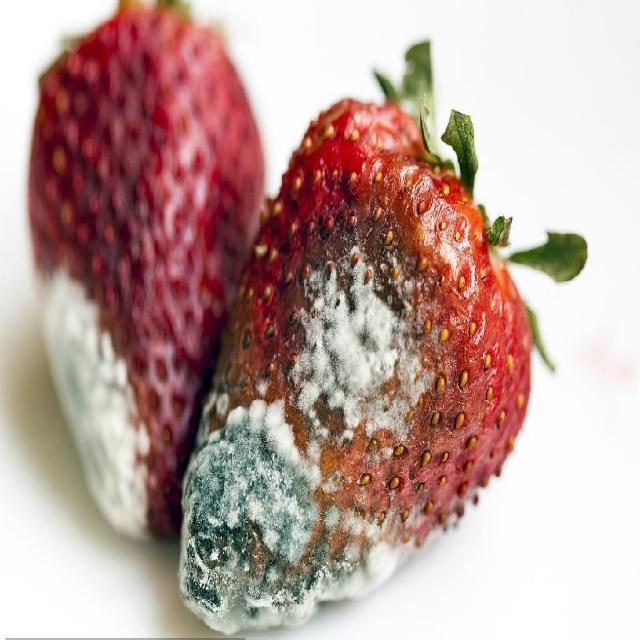organic: (25, 0, 589, 637)
